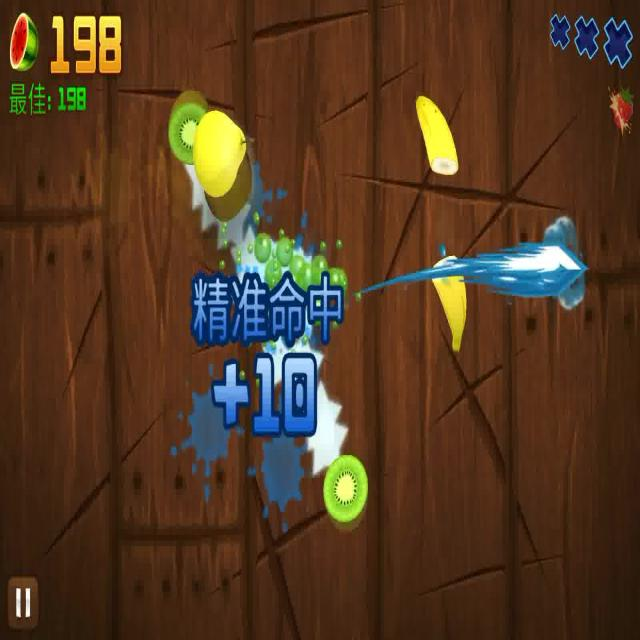fruit: (193, 106, 247, 201), (431, 250, 474, 362), (416, 89, 462, 190), (319, 457, 372, 533), (167, 85, 210, 162)
